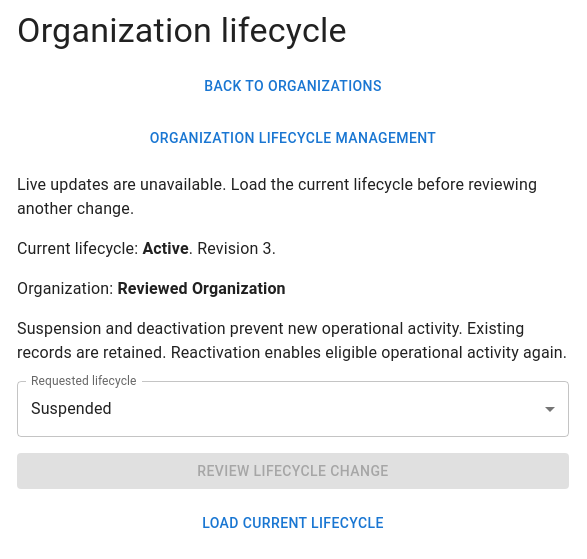
requires a fresh manual review after live interruption and keeps the critical flow accessible
Expected: the button "Review lifecycle change" is disabled, [17,453,569,490]
Expected: the message shows "Live updates are unavailable", [17,175,537,218]
Click the button "Load current lifecycle": (293, 524) [17,506,569,542]
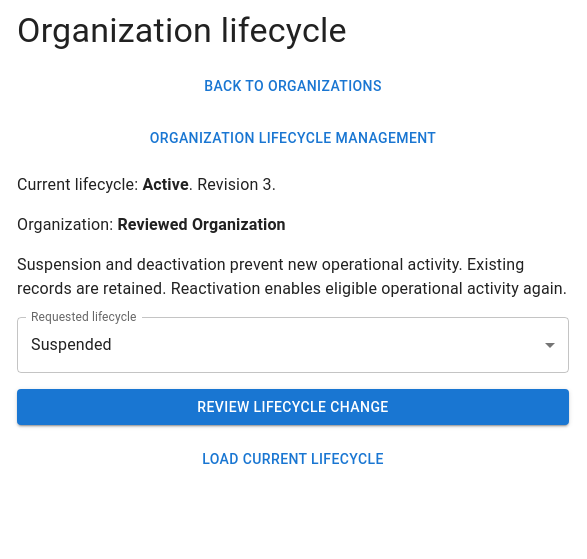
Expected: the button "Review lifecycle change" is enabled, [17,389,569,426]
